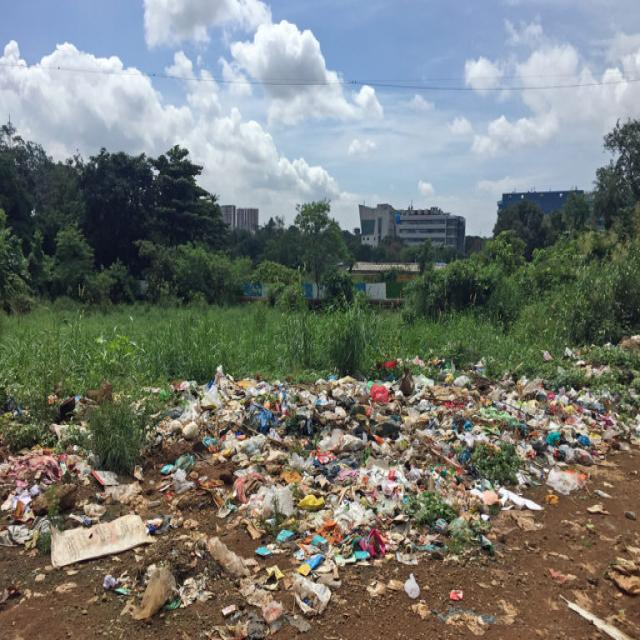garbage: (0, 363, 640, 640)
